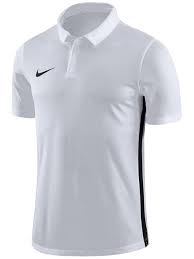S_polo shirt: (13, 8, 188, 252)
